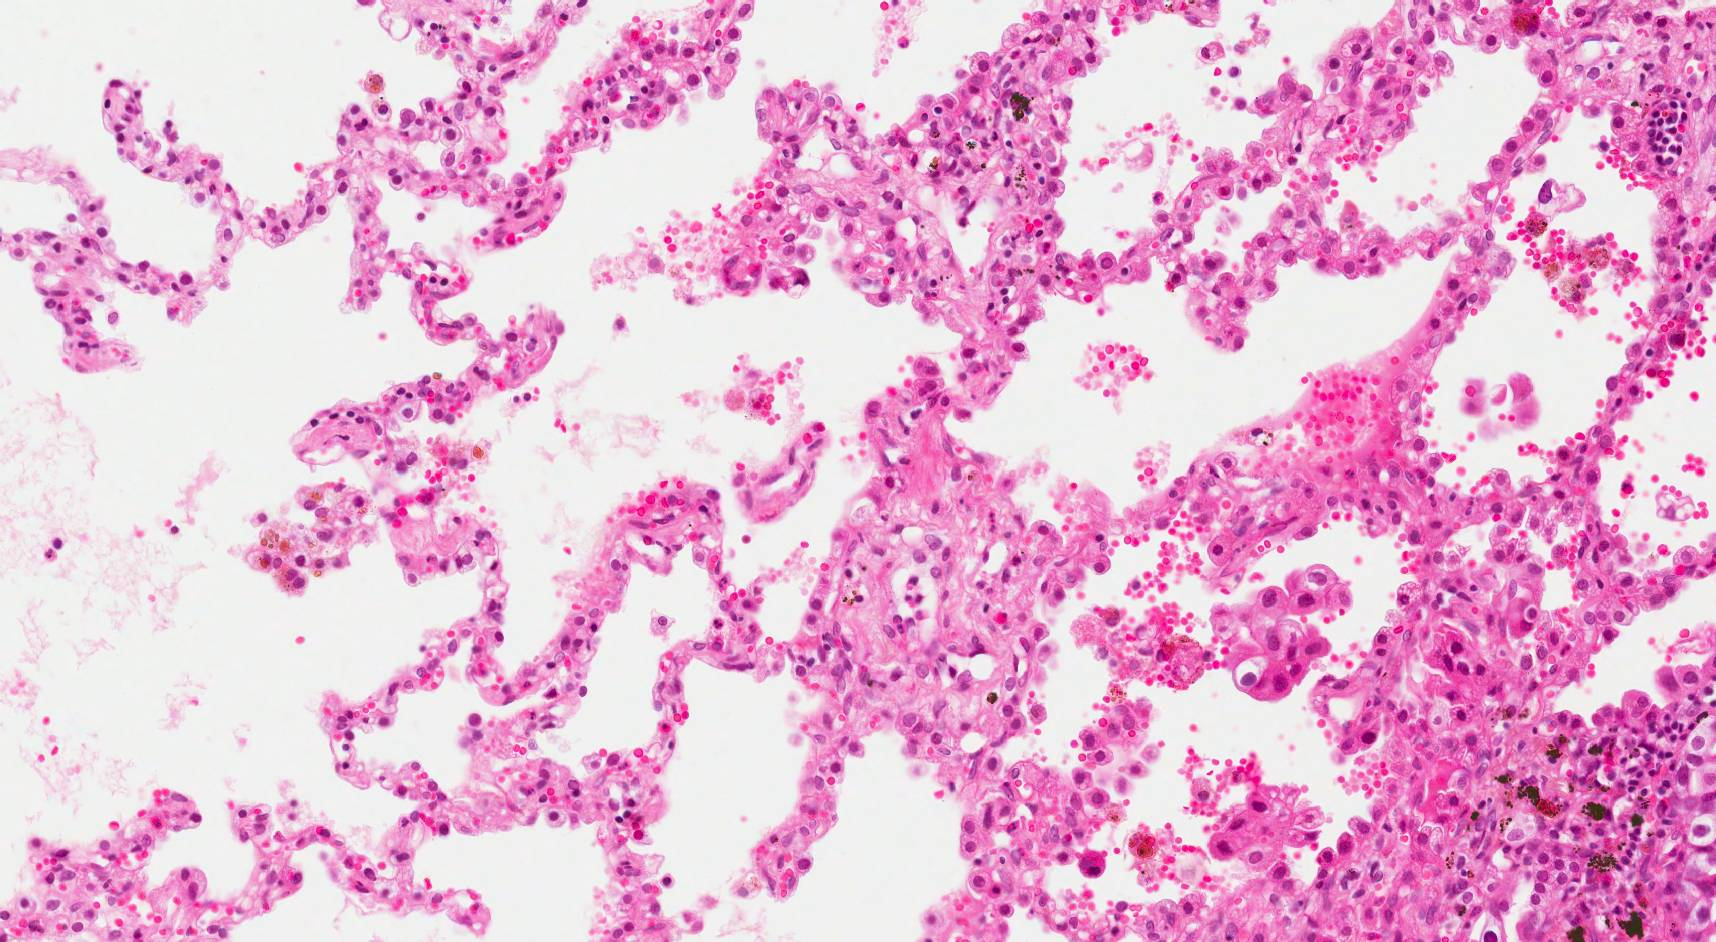stas: (1208, 563, 1354, 702)
